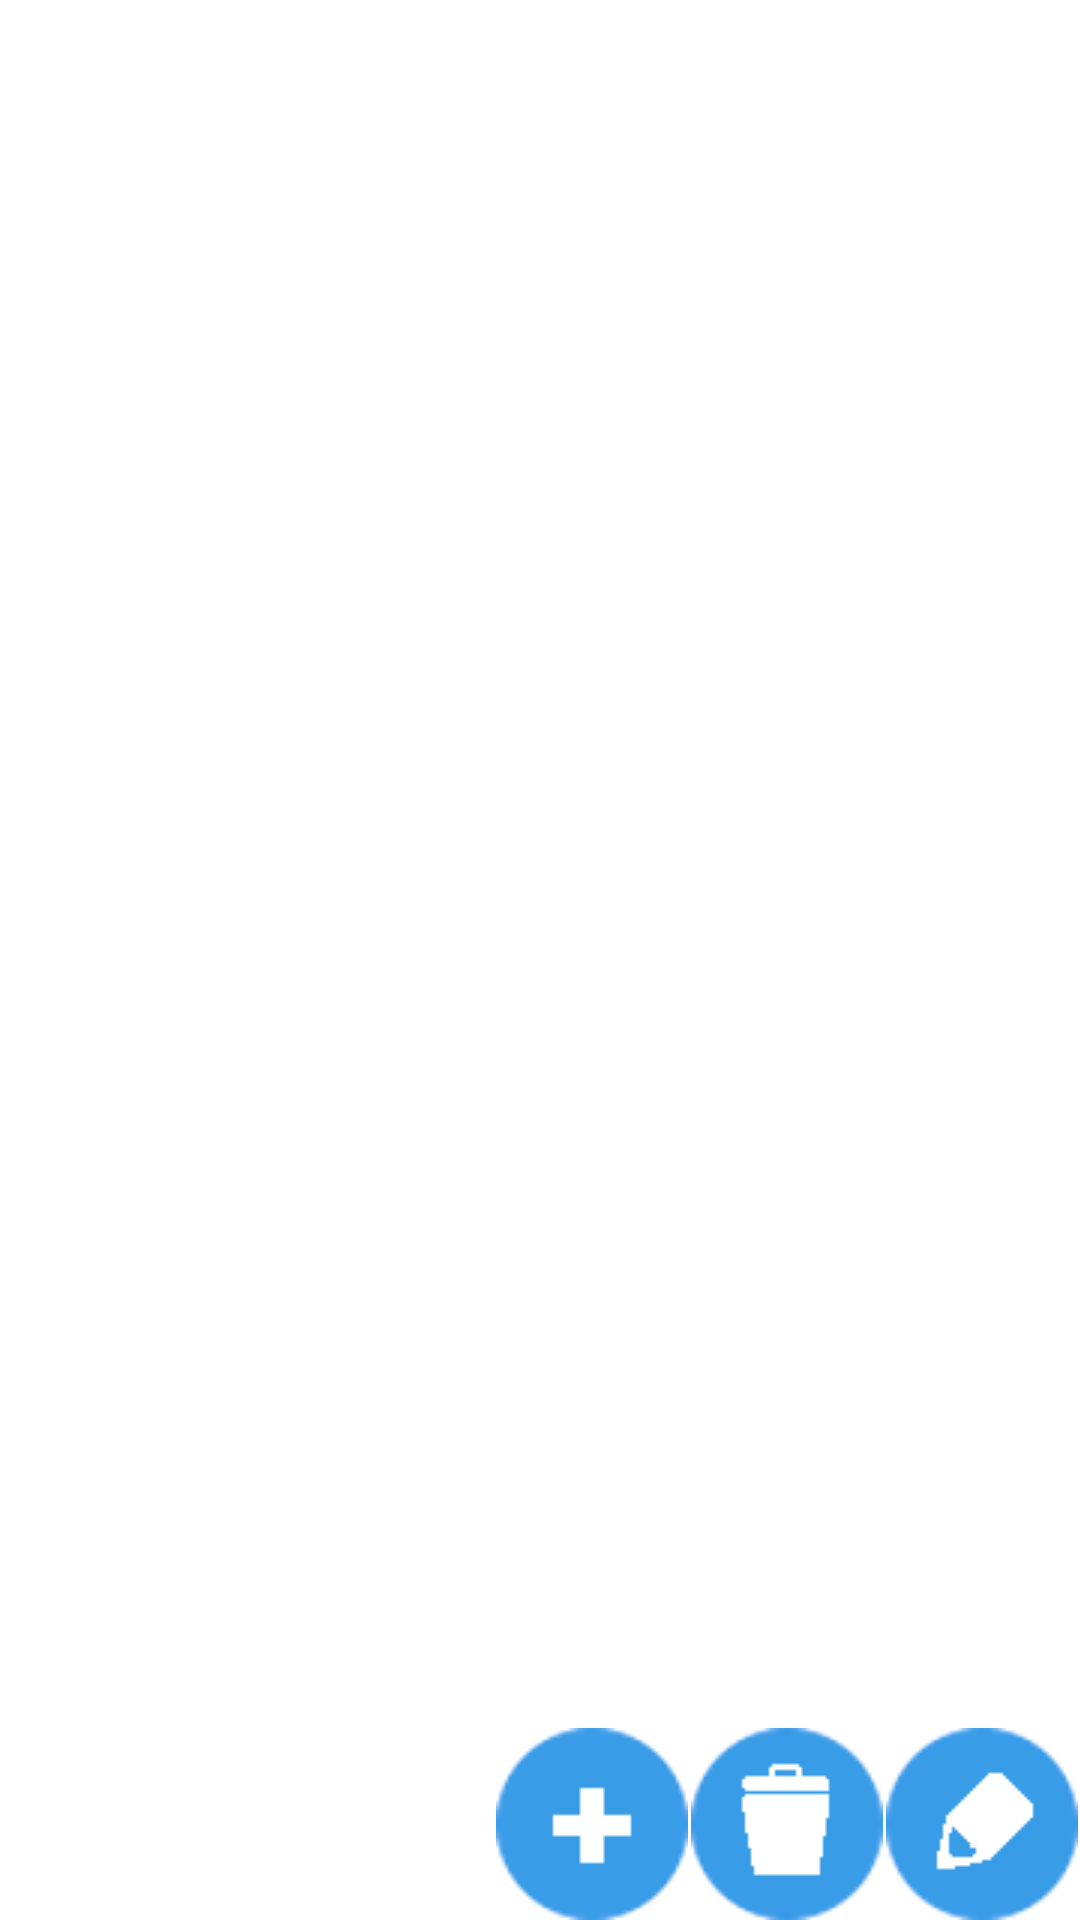

Point at icon controls on the screen. Image size 1080 x 1920, points as point (x, y).
add: point (592, 1824)
edit: point (982, 1824)
remove: point (787, 1824)
